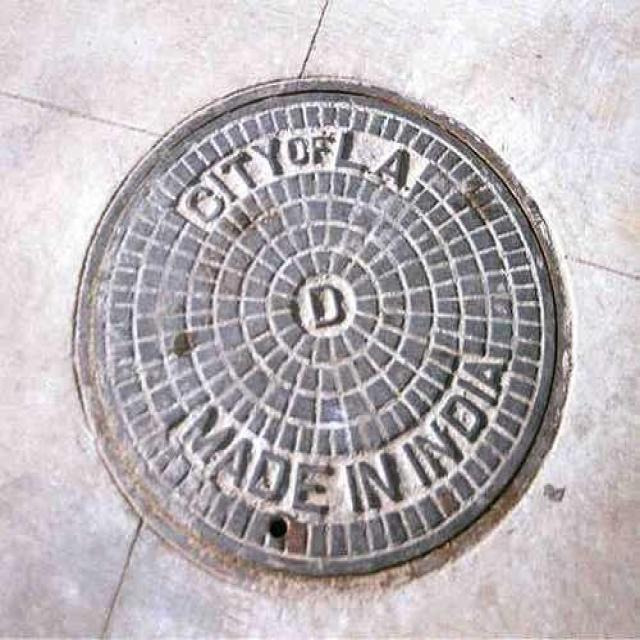manhole: (74, 79, 571, 575)
